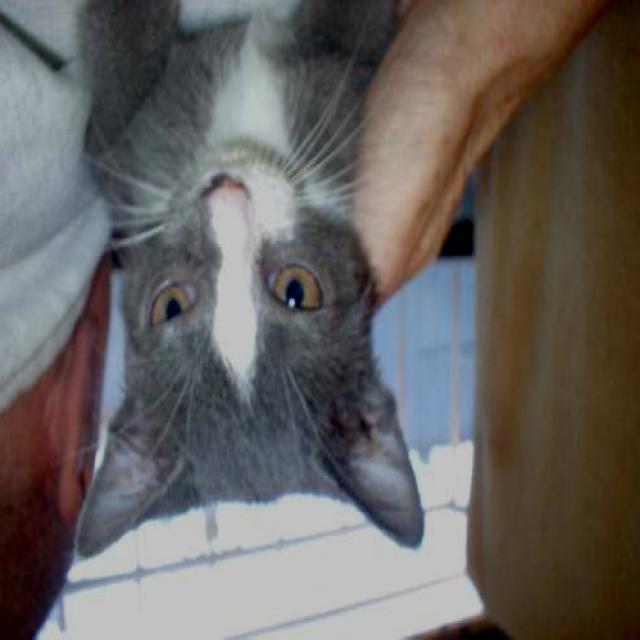Kucing: (0, 51, 461, 638)
